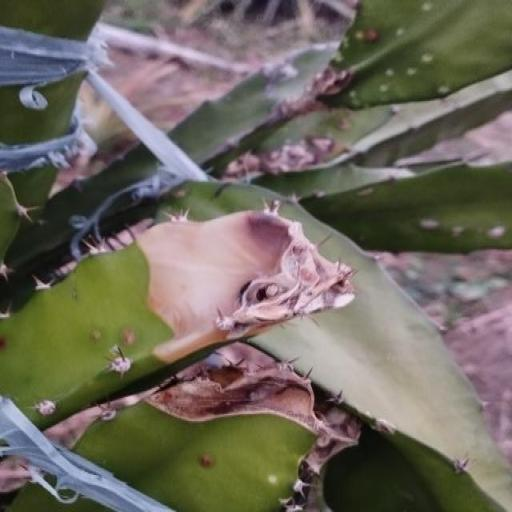stemcanker: (196, 450, 218, 476), (119, 324, 138, 347), (265, 466, 283, 488), (88, 324, 107, 344)
